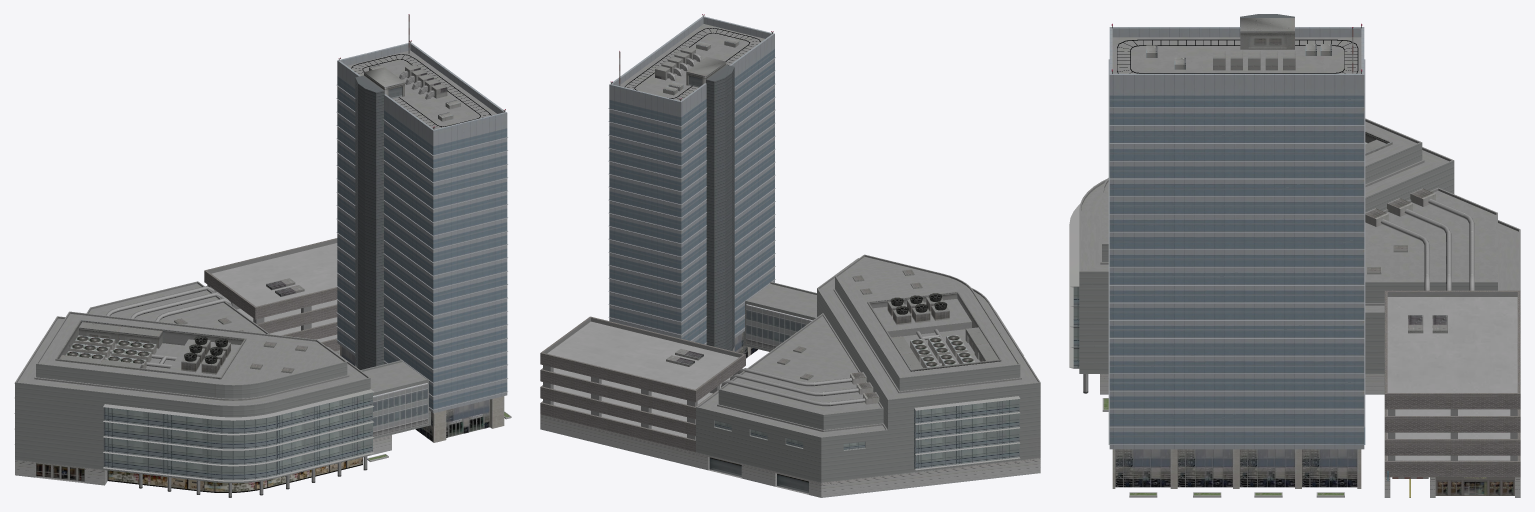
The model's file is office-l7.glb.
The picture shows the model from 3 angles, left to right: view 1: azimuth 30°, elevation 25°; view 2: azimuth 150°, elevation 25°; view 3: azimuth 270°, elevation 25°; orthographic projection. The views are drawn at different scales.
Visible parts, largest first — view 1: 45building_b_ind_AITW2W1_t4_l1_0; view 2: 45building_b_ind_AITW2W1_t4_l1_0; view 3: 45building_b_ind_AITW2W1_t4_l1_0.
Boxes of the visible parts, x1,y1,x2,y2 form: 45building_b_ind_AITW2W1_t4_l1_0: (14,14,511,497); 45building_b_ind_AITW2W1_t4_l1_0: (540,14,1040,497); 45building_b_ind_AITW2W1_t4_l1_0: (1069,14,1520,497).
Bounding box in the file's own units: 94.21 × 71.63 × 63.8.
1 material, 1 textured.
